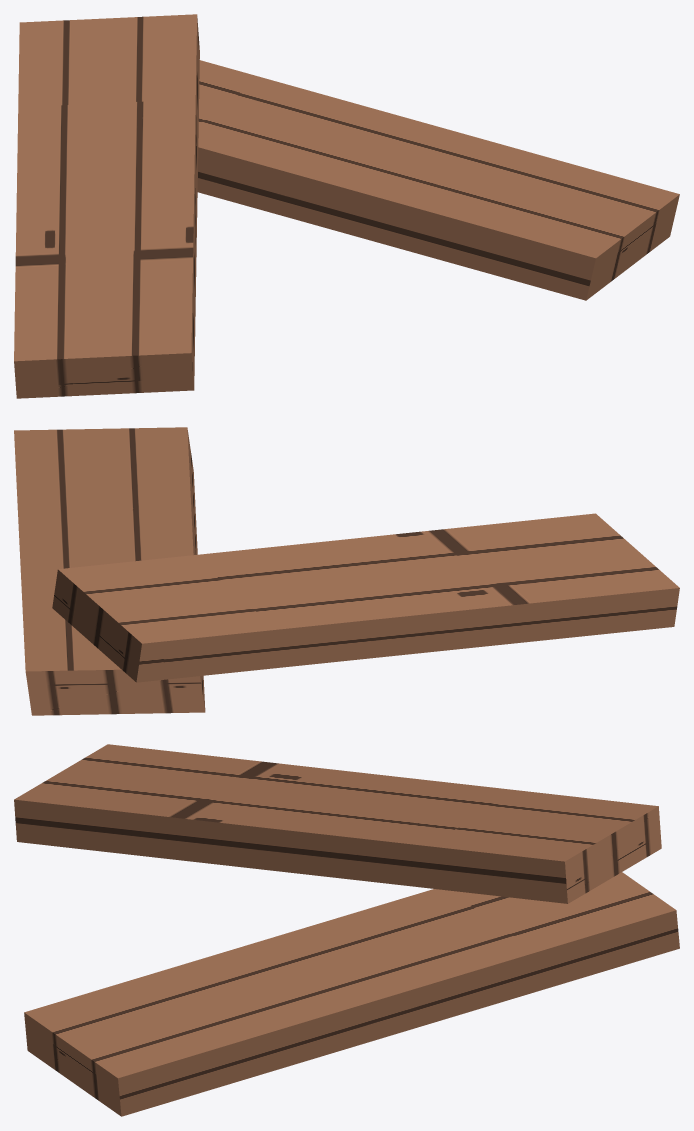
File: boost.fbx
The picture shows the model from 3 angles, top to bottom: view 1: azimuth 30°, elevation 25°; view 2: azimuth 150°, elevation 25°; view 3: azimuth 270°, elevation 25°; orthographic projection. The views are drawn at different scales.
Visible parts, largest first — view 1: Cube.001; view 2: Cube.001; view 3: Cube.001.
Part boxes in pixels (x1=…): Cube.001: x1=14, y1=14, x2=679, y2=398; Cube.001: x1=14, y1=427, x2=679, y2=715; Cube.001: x1=14, y1=744, x2=679, y2=1116.
Bounding box in the file's own units: 242 × 43.25 × 204.
